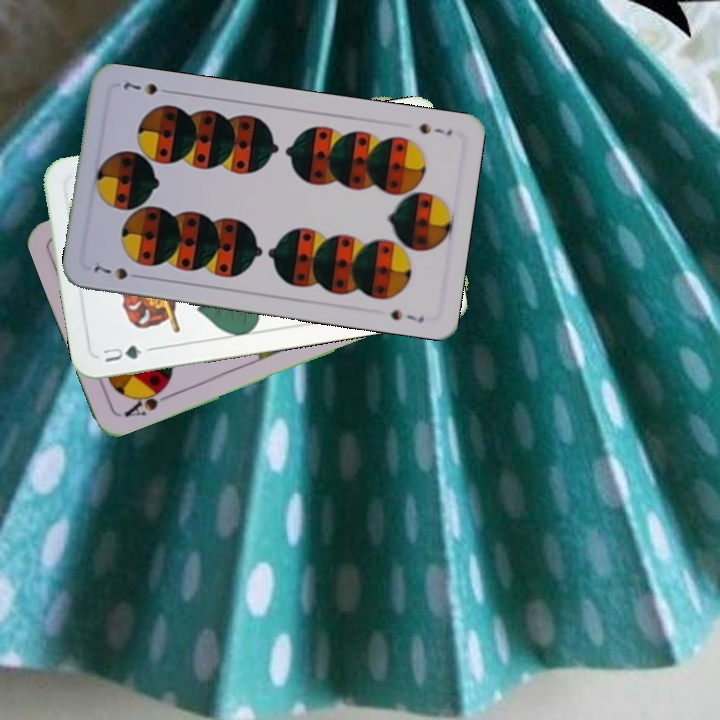GU: (97, 340, 145, 365)
S7: (90, 262, 145, 283), (415, 119, 455, 139)
SA: (120, 381, 174, 420)
